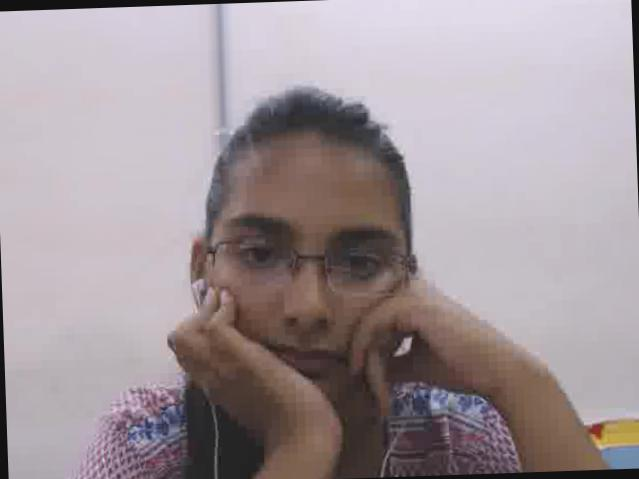bosan: (208, 158, 416, 418)
